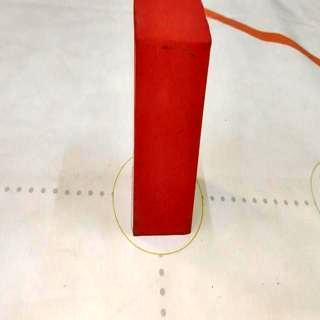redbox: (132, 0, 212, 235)
